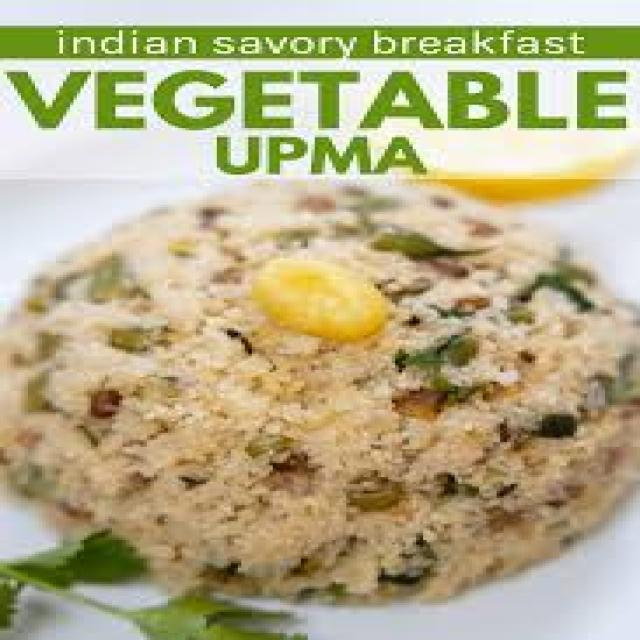UPMA: (0, 170, 637, 596)
